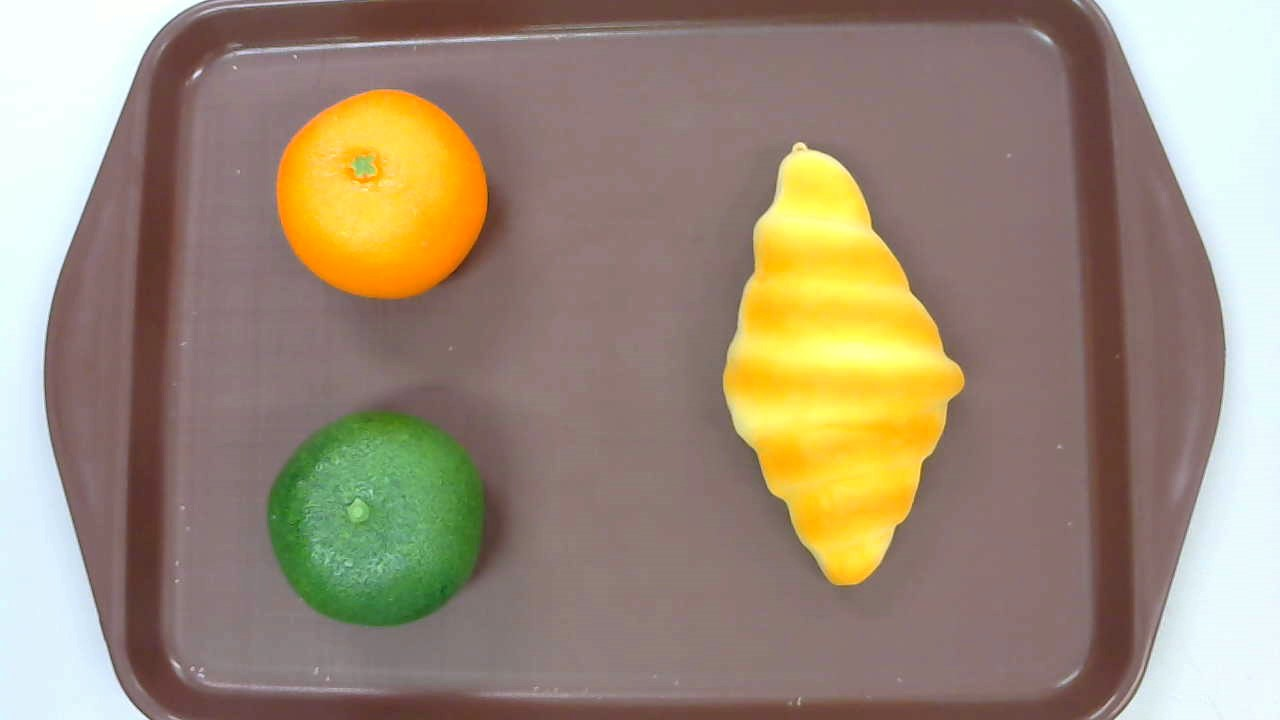croissant: (722, 142, 966, 587)
green orange: (265, 409, 485, 628)
orange: (275, 90, 488, 300)
